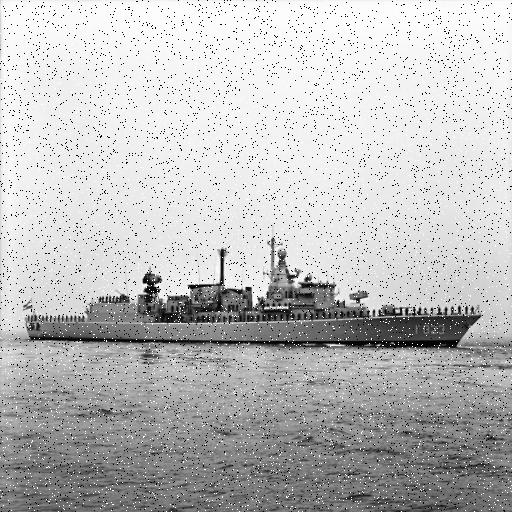Fragata: (17, 224, 487, 353)
